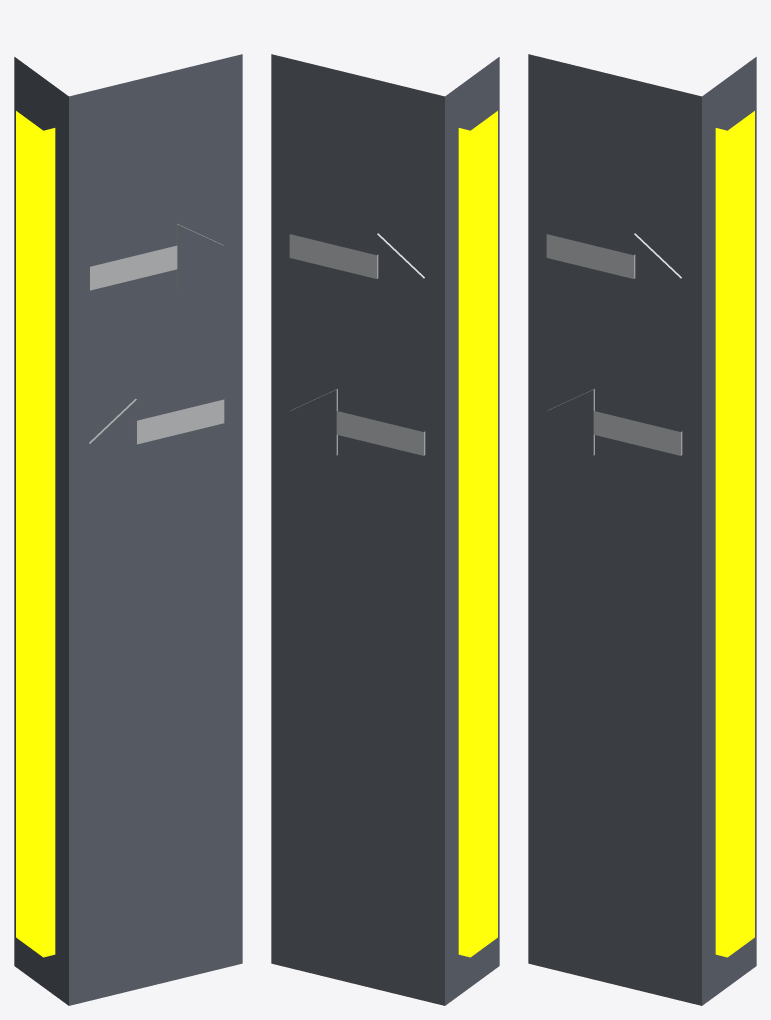
Rendered from ext_wayfinding_totem_03.glb.
3 views of the same model, side by side, from view 1: azimuth 30°, elevation 25°; view 2: azimuth 150°, elevation 25°; view 3: azimuth 330°, elevation 25° (orthographic).
Parts seen in each view (by area): view 1: Slab, Spines, Arrows; view 2: Slab, Spines, Arrows; view 3: Slab, Spines, Arrows.
Part boxes in pixels (x1=…): Slab: x1=14, y1=54, x2=242, y2=1005; Spines: x1=16, y1=111, x2=55, y2=957; Arrows: x1=88, y1=223, x2=224, y2=444; Slab: x1=271, y1=54, x2=499, y2=1005; Spines: x1=458, y1=111, x2=497, y2=957; Arrows: x1=289, y1=233, x2=425, y2=455; Slab: x1=528, y1=54, x2=756, y2=1005; Spines: x1=715, y1=111, x2=754, y2=957; Arrows: x1=546, y1=233, x2=682, y2=455.
Bounding box in the file's own units: 0.5 × 2.2 × 0.252.
